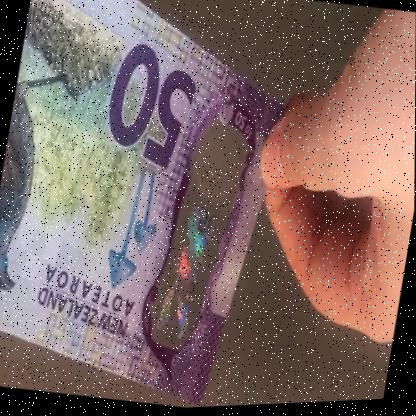50B: (153, 130, 240, 352)
